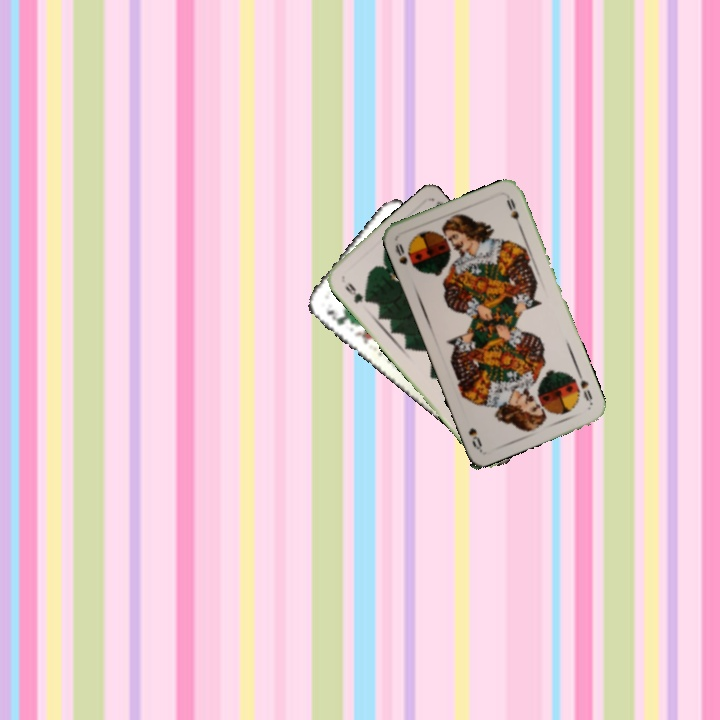G9: (341, 278, 370, 306)
GK: (322, 306, 355, 328)
SO: (574, 368, 595, 403), (391, 239, 410, 268)
